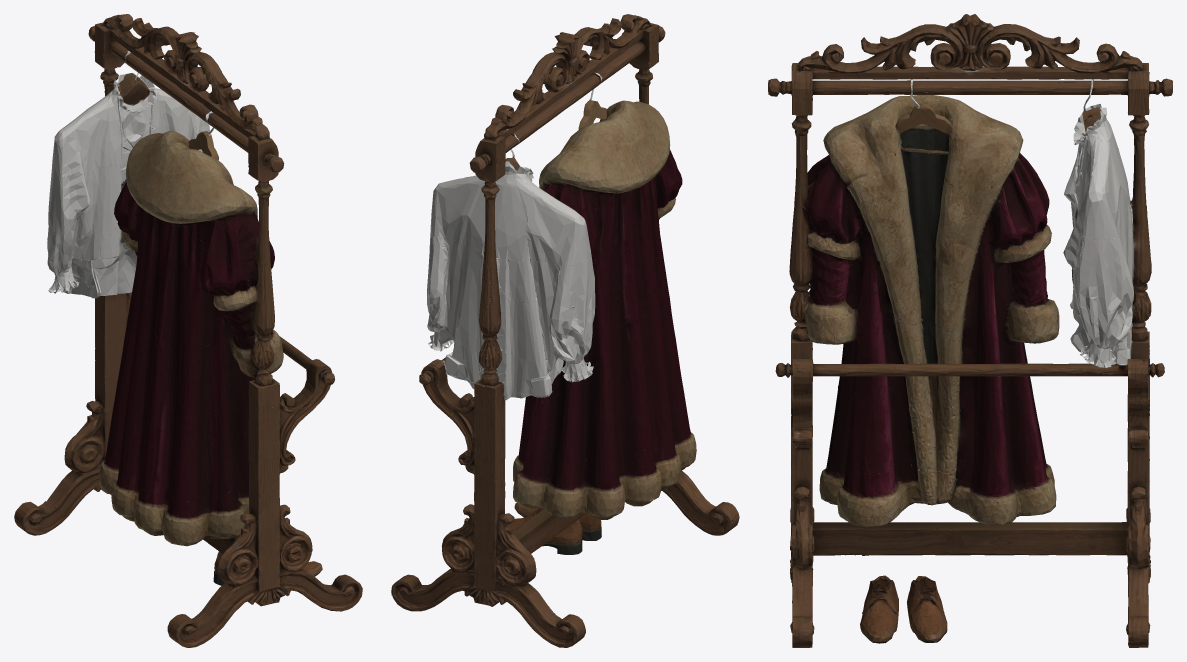
The model's file is Clothes.fbx.
3 views of the same model, side by side, from view 1: azimuth 30°, elevation 25°; view 2: azimuth 150°, elevation 25°; view 3: azimuth 270°, elevation 25° (orthographic). The views are drawn at different scales.
Visible parts, largest first — view 1: Hermann_Clothes; view 2: Hermann_Clothes; view 3: Hermann_Clothes.
Part boxes in pixels (bbox=[...]): Hermann_Clothes: bbox=[14, 14, 362, 647]; Hermann_Clothes: bbox=[391, 14, 739, 647]; Hermann_Clothes: bbox=[768, 14, 1172, 647].
Size of the model in its own units: 36.45 by 100 by 62.43.
1 material, 1 textured.
